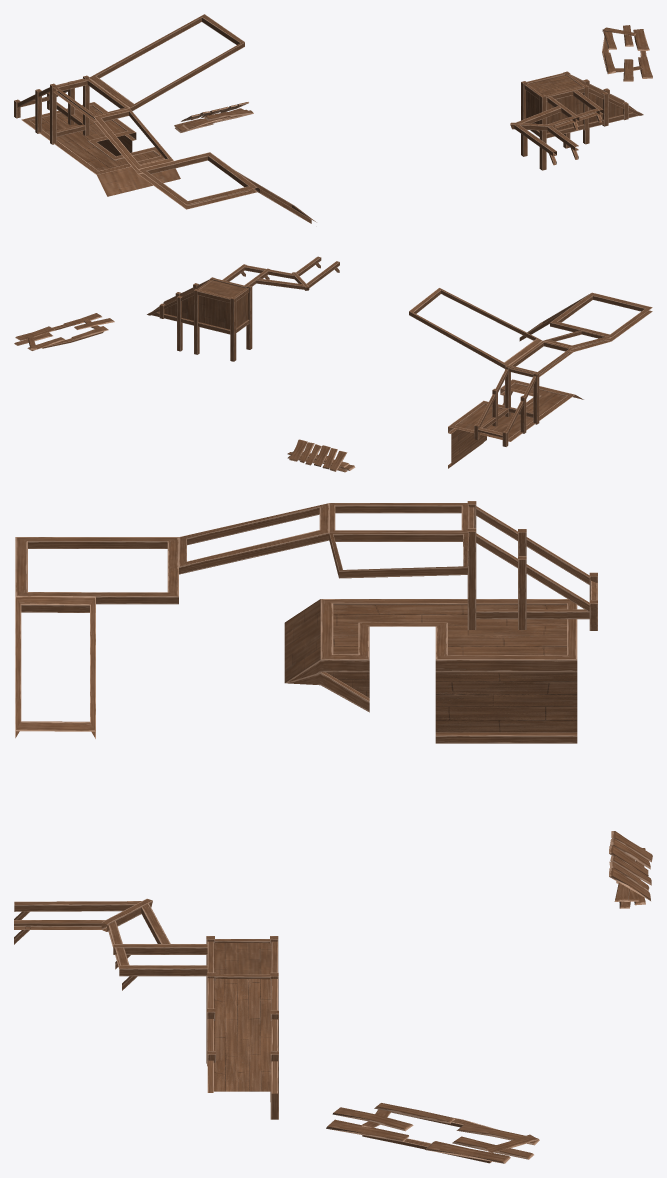
File: SM_Wood_01.fbx
3 views of the same model, one above another, from view 1: azimuth 30°, elevation 25°; view 2: azimuth 150°, elevation 25°; view 3: azimuth 270°, elevation 25° (orthographic). The views are drawn at different scales.
Parts seen in each view (by area): view 1: SM_Wood_01; view 2: SM_Wood_01; view 3: SM_Wood_01.
Boxes of the visible parts, x1,y1,x2,y2 form: SM_Wood_01: [14, 14, 652, 223]; SM_Wood_01: [14, 256, 652, 472]; SM_Wood_01: [14, 501, 652, 1163].
Size of the model in its own units: 7002 by 1852 by 3800.
